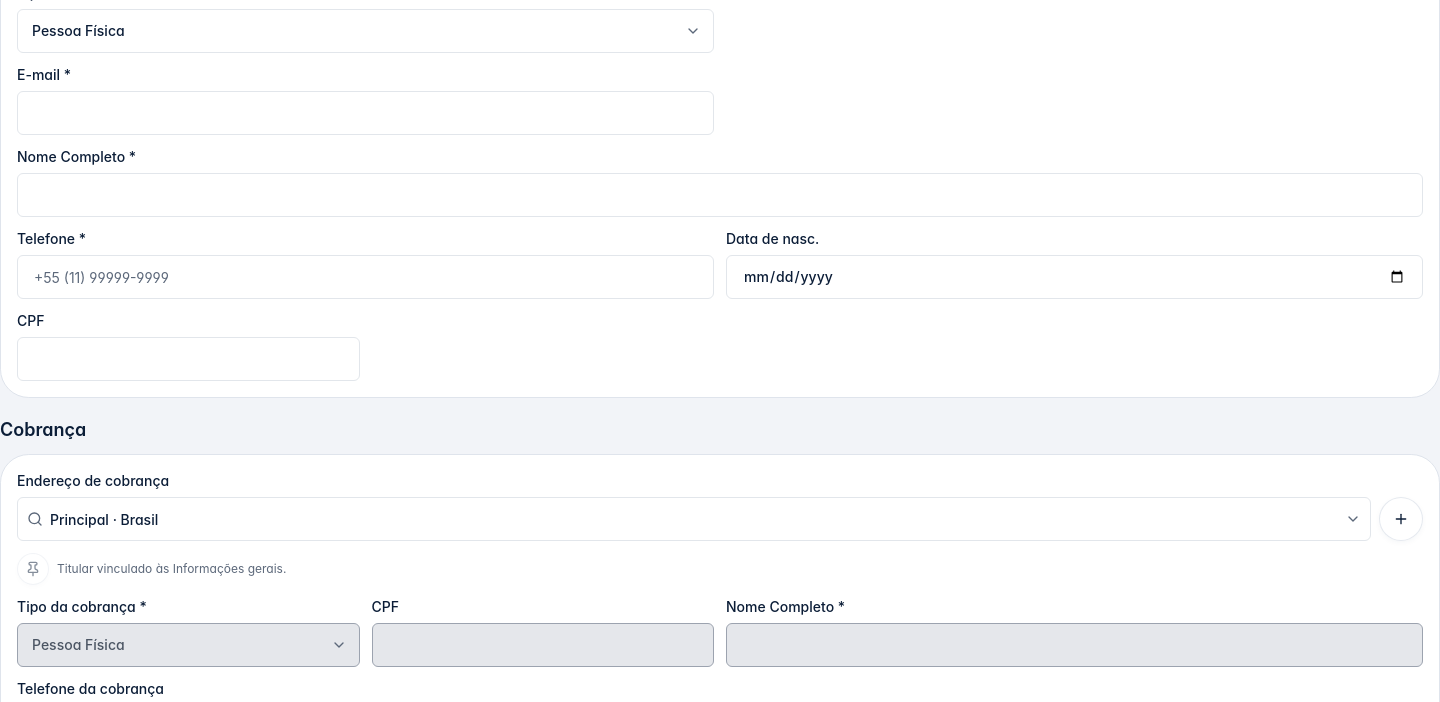
it: PJ usa Nome Fantasia e repete CNPJ, razão social e inscrições gerais na Principal somente para leitura
Click the dropdown named "Tipo de cliente" at (78, 30), box [17,9,714,53]
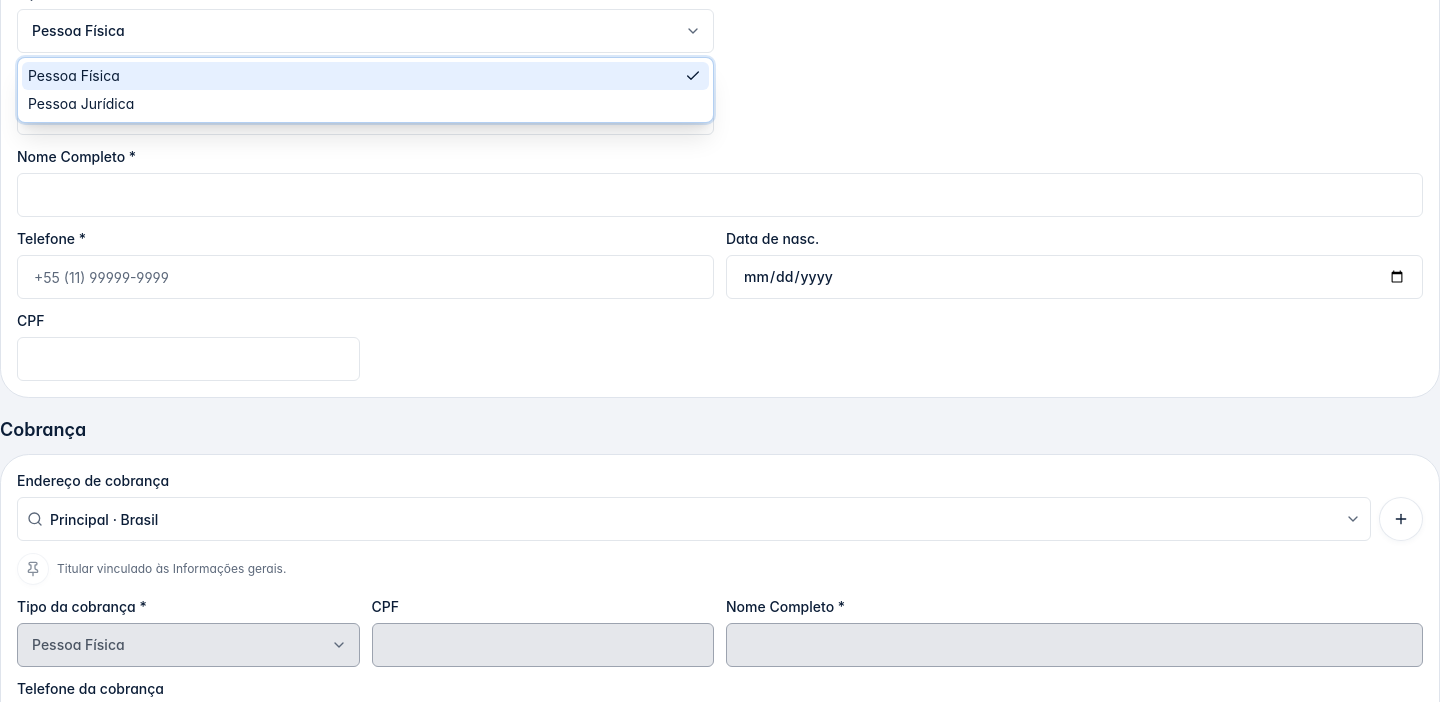
Click the option "Pessoa Jurídica" at (81, 104), box [28,95,134,112]
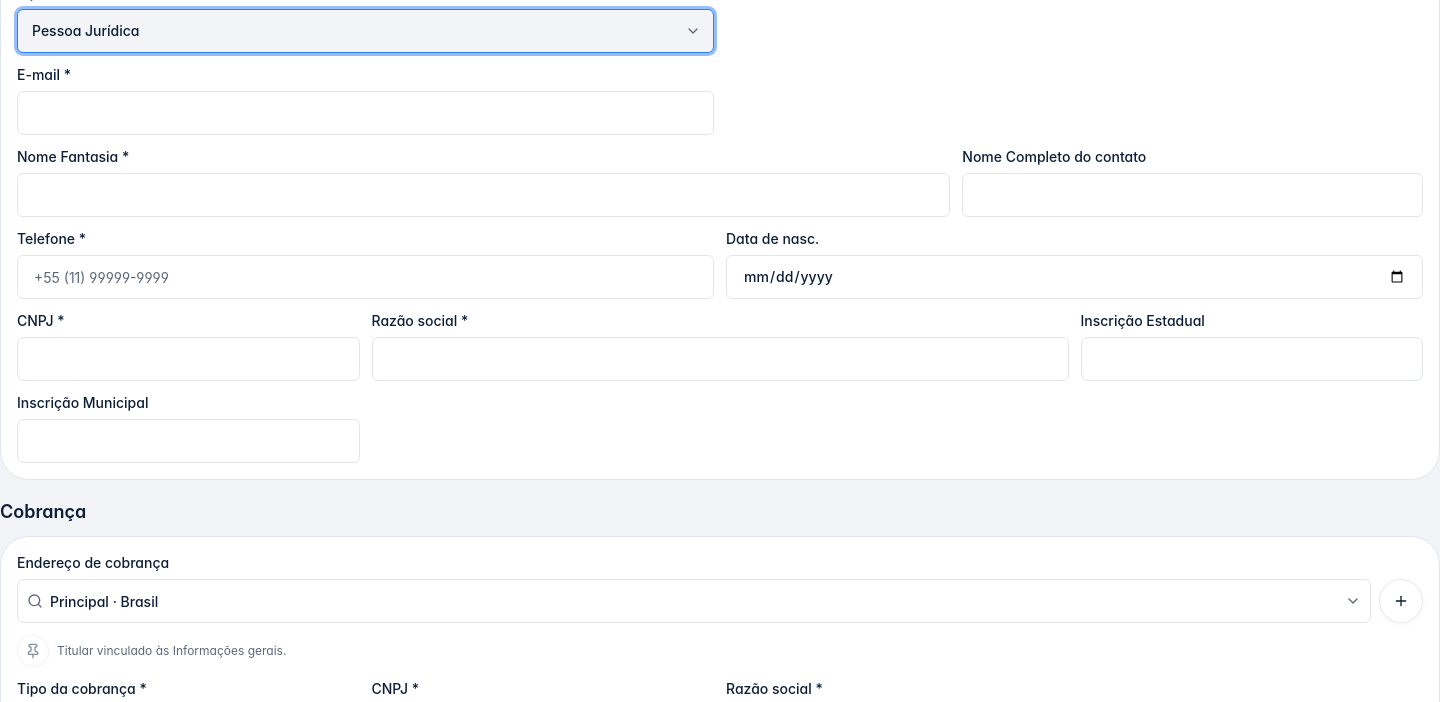
Type "Empresa Fictícia" into the field labelled "Nome Fantasia *" at (484, 195), box [17,173,950,217]
Type "Maria Clara Fictícia" into the field labelled "Nome Completo do contato" at (1193, 195), box [962,173,1423,217]
Type "1122233300018" into the field labelled "CNPJ *" below "Telefone *" at (188, 359), box [17,337,360,381]
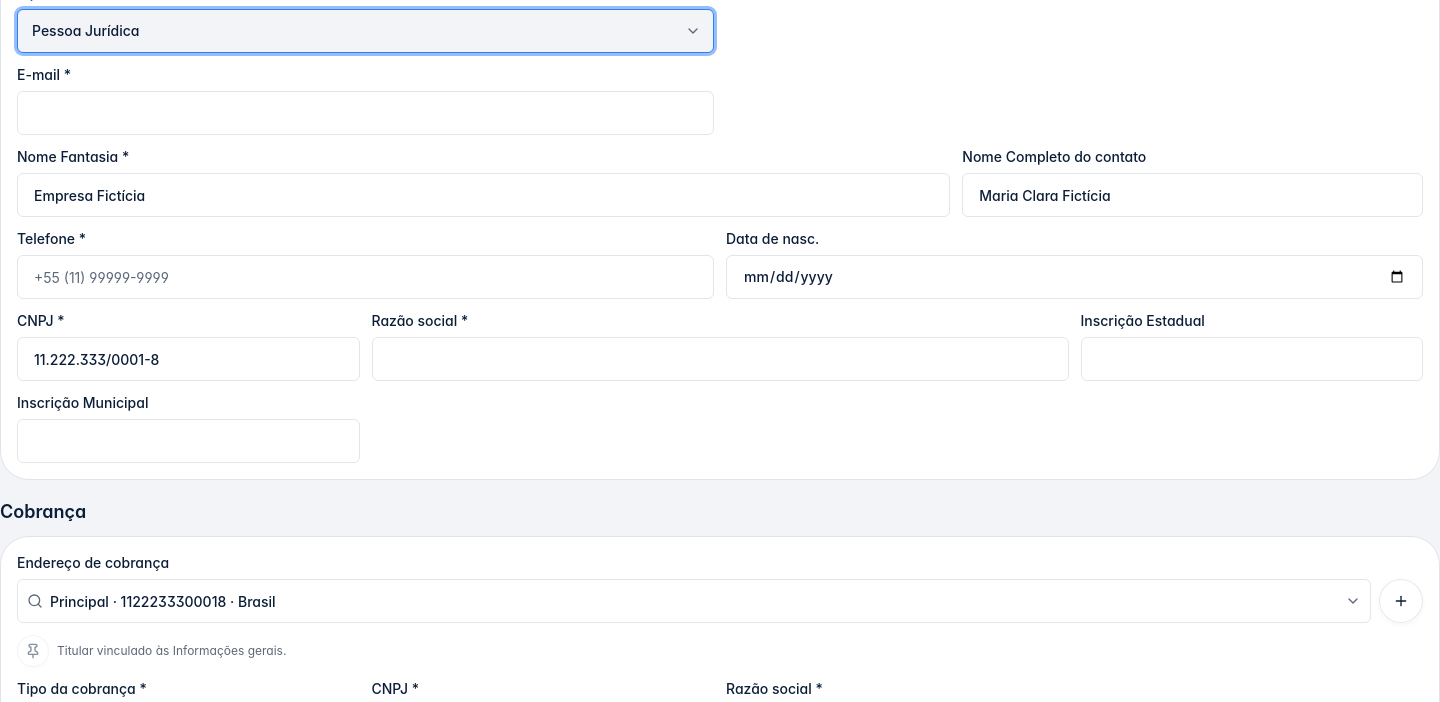
Type "Razão sintética" into the field labelled "Razão social *" below "Data de nasc." at (720, 359), box [372,337,1068,381]
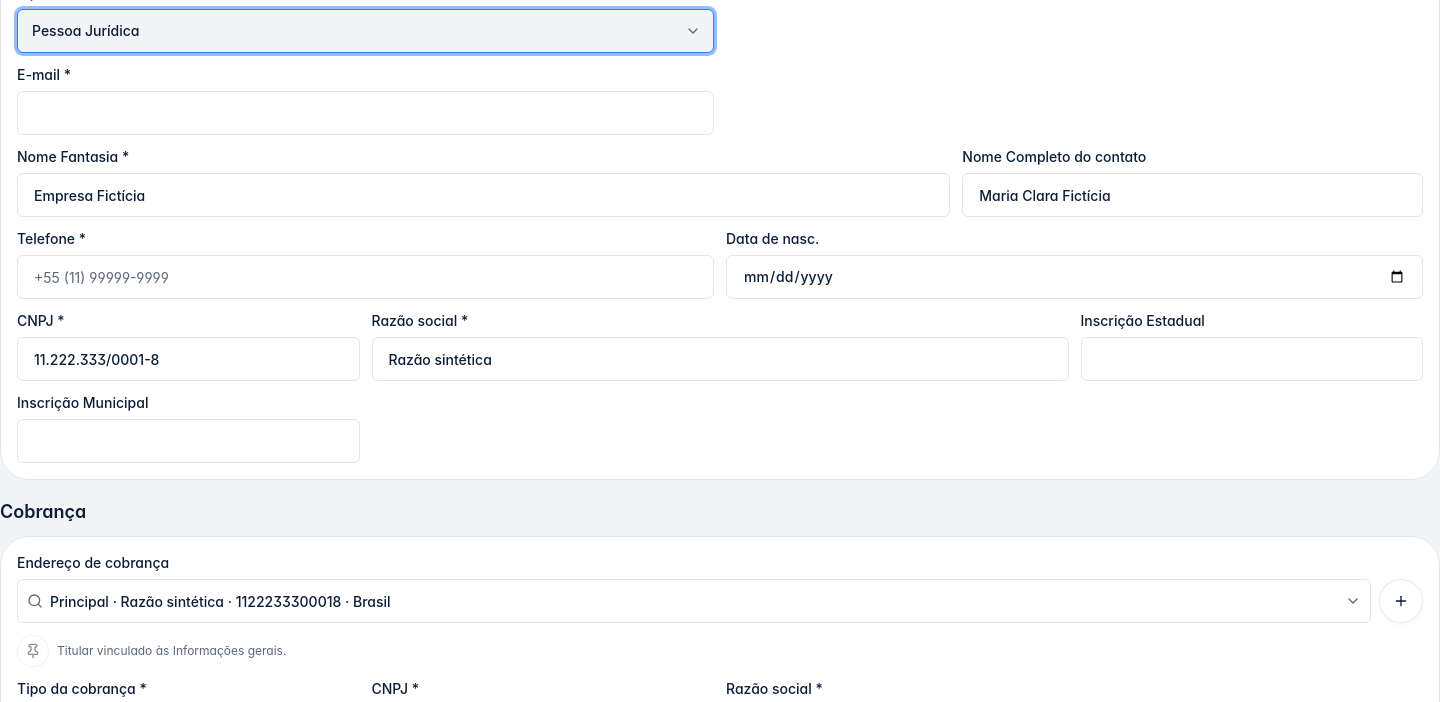
Type "12345" into the field labelled "Inscrição Estadual" at (1252, 359), box [1080,337,1423,381]
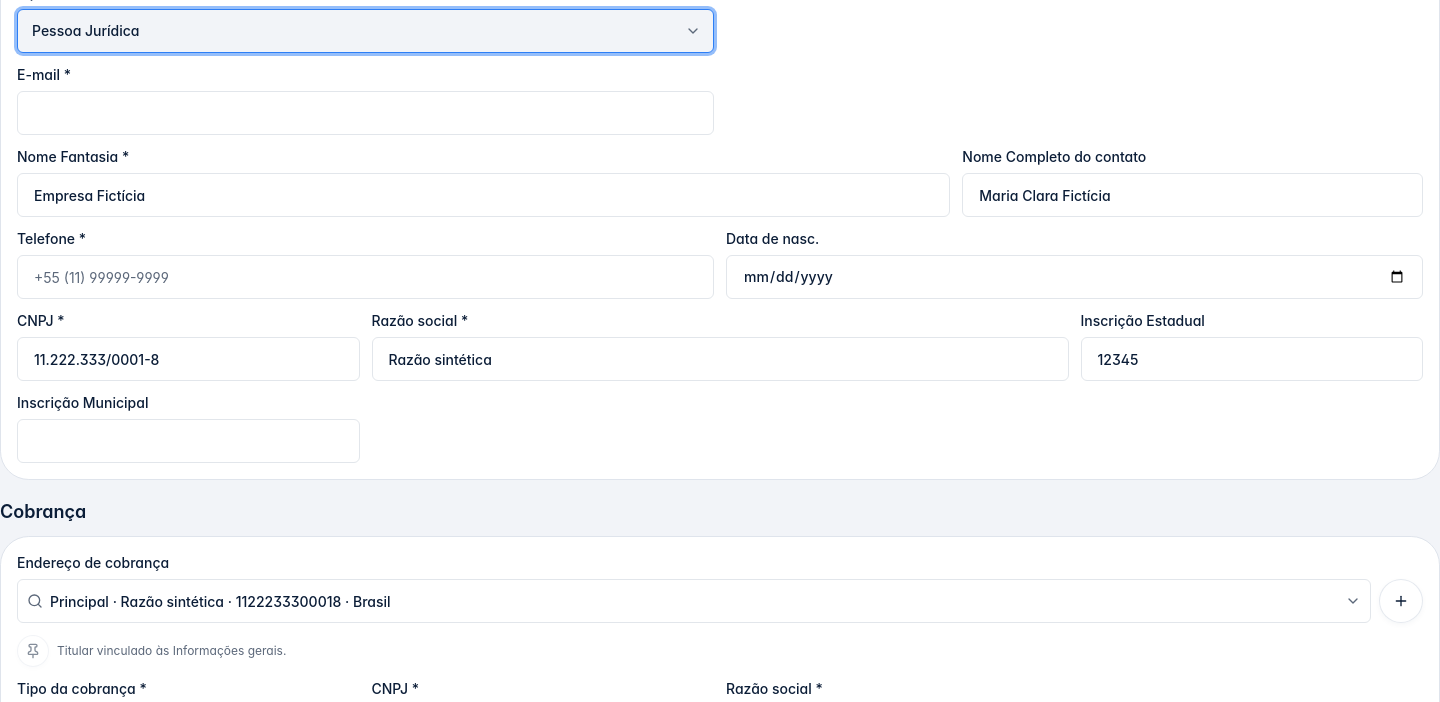
Type "67890" into the field labelled "Inscrição Municipal" at (188, 441), box [17,419,360,463]
(page scrolled)
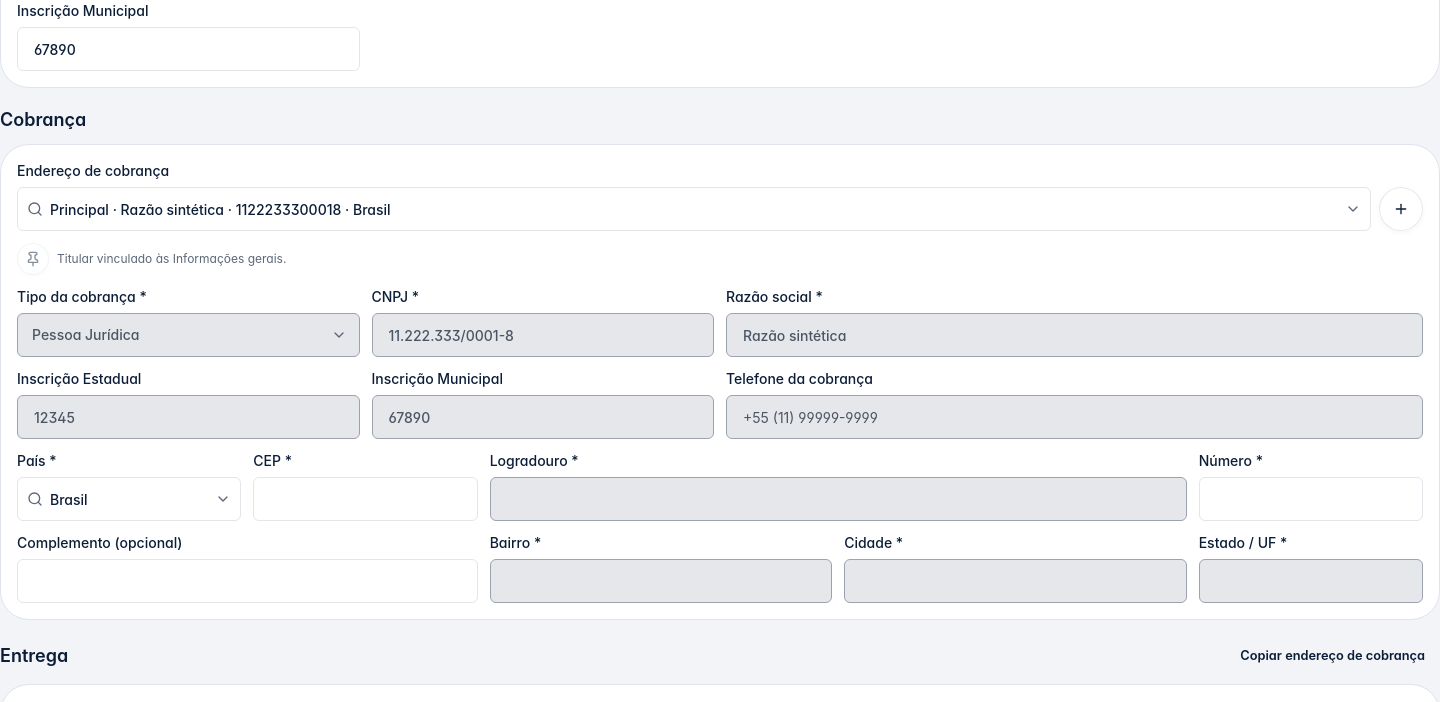
Check: the dropdown named "Tipo da cobrança" is disabled, box [17,313,360,357]
Check: the field labelled "Inscrição Municipal" below "Telefone da cobrança" holds "67890", box [372,395,714,439]
